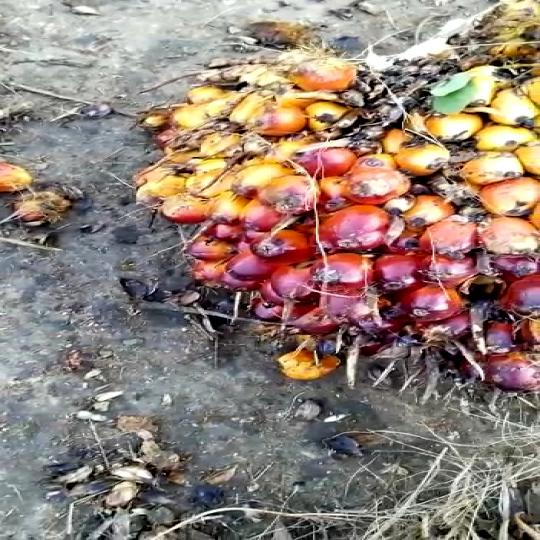masak: (99, 44, 540, 409)
